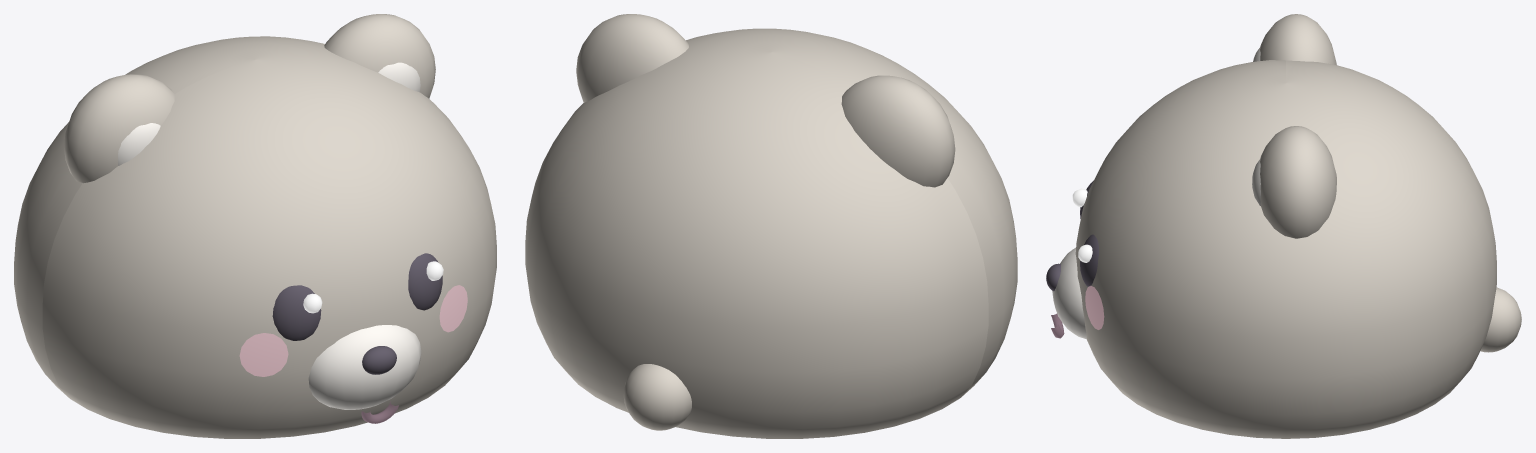
Rendered from squishy_bear.glb.
3 renders of one model, left to right at view 1: azimuth 30°, elevation 25°; view 2: azimuth 150°, elevation 25°; view 3: azimuth 270°, elevation 25°, orthographic. The views are drawn at different scales.
Parts seen in each view (by area): view 1: Body, Part_0, Part_4, Part_2, Part_7, Part_9, Part_10, Part_12, Part_1, Part_5, Part_3; view 2: Body, Part_0, Part_2, Part_6; view 3: Body, Part_2, Part_0, Part_4, Part_6, Part_12, Part_10.
Boxes of the visible parts, left/top/right/bottom form: Body: left=14, top=36, right=496, bottom=438; Part_0: left=64, top=74, right=174, bottom=183; Part_4: left=308, top=325, right=421, bottom=409; Part_2: left=324, top=14, right=435, bottom=98; Part_7: left=272, top=285, right=321, bottom=340; Part_9: left=239, top=333, right=288, bottom=376; Part_10: left=408, top=253, right=442, bottom=310; Part_12: left=439, top=285, right=467, bottom=332; Part_1: left=118, top=123, right=160, bottom=165; Part_5: left=362, top=346, right=396, bottom=374; Part_3: left=378, top=62, right=420, bottom=92; Body: left=525, top=28, right=1017, bottom=438; Part_0: left=841, top=75, right=955, bottom=187; Part_2: left=576, top=14, right=688, bottom=102; Part_6: left=623, top=364, right=691, bottom=430; Body: left=1075, top=60, right=1496, bottom=438; Part_2: left=1260, top=126, right=1336, bottom=238; Part_0: left=1260, top=14, right=1336, bottom=64; Part_4: left=1052, top=247, right=1086, bottom=338; Part_6: left=1480, top=287, right=1521, bottom=352; Part_12: left=1085, top=286, right=1104, bottom=329; Part_10: left=1080, top=234, right=1098, bottom=286.
Bounding box in the file's own units: 2.2 × 1.65 × 2.3.
